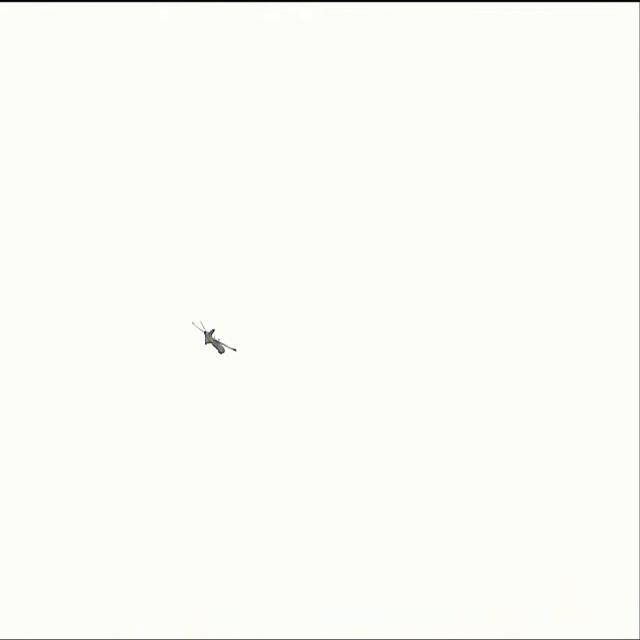iha: (189, 317, 238, 360)
